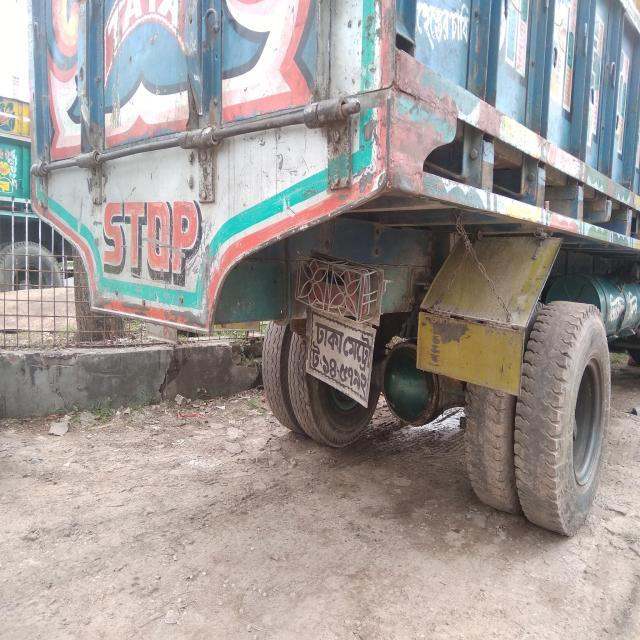numberplate: (303, 309, 376, 409)
